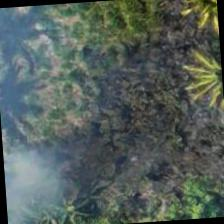Kelapa_Sawit: (171, 30, 223, 125)
